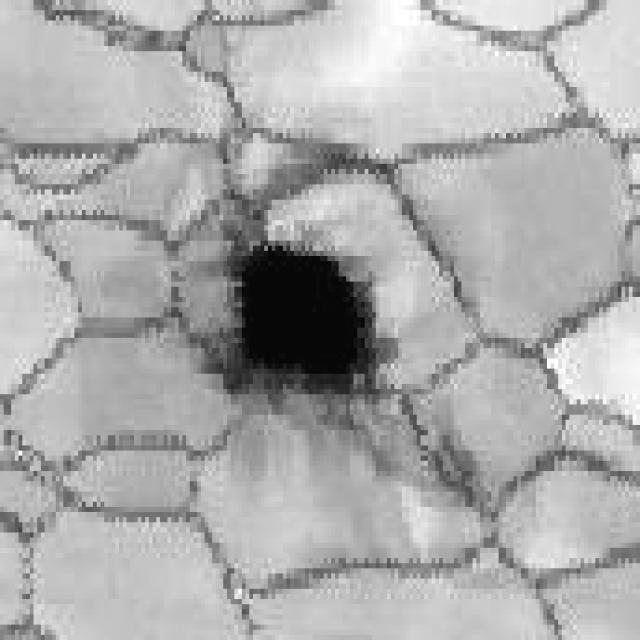good_void: (219, 220, 400, 438)
